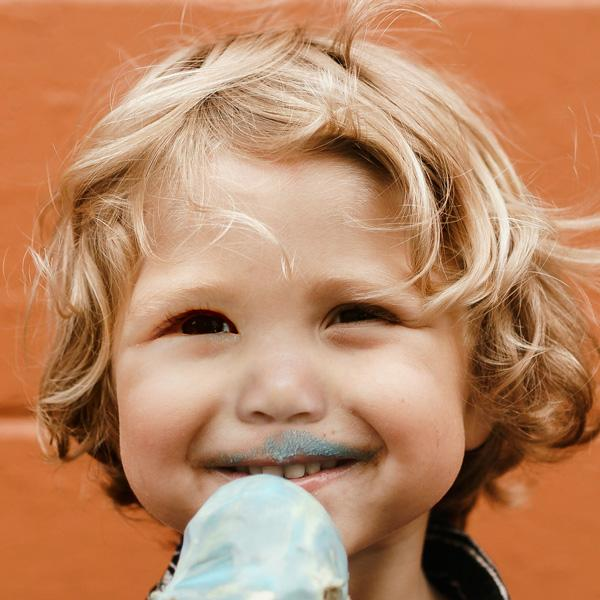Eyes: (305, 286, 420, 352), (134, 293, 250, 356)
